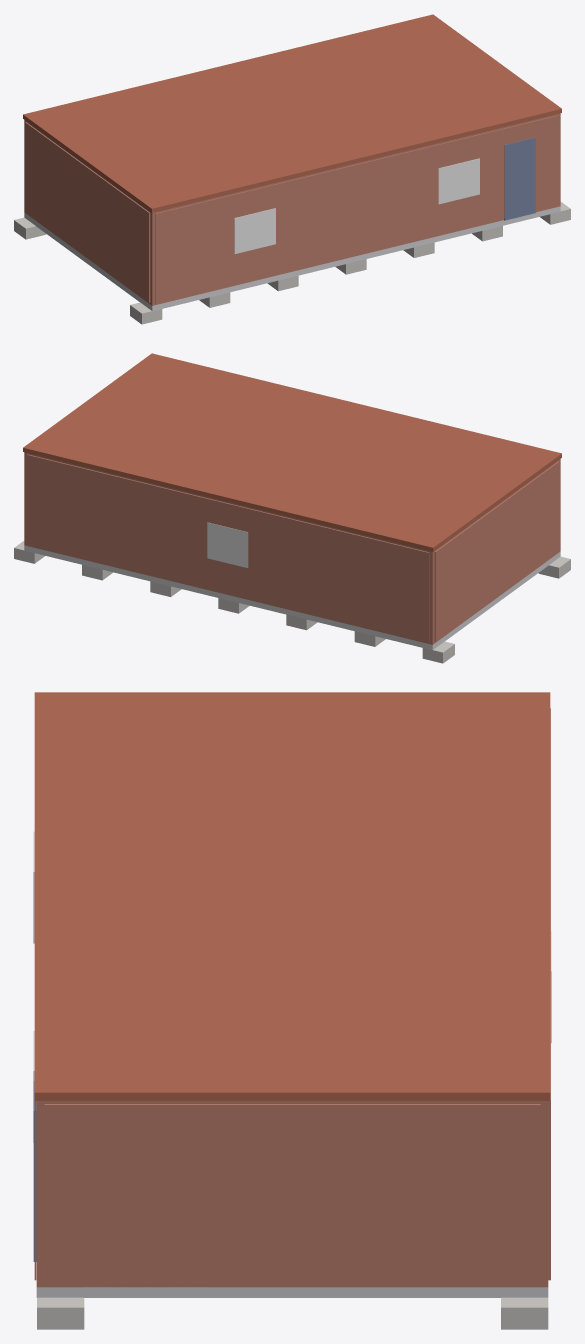
File: Studio-40-Base-OxidisedRed-LOD3.glb
3 views of the same model, one above another, from view 1: azimuth 30°, elevation 25°; view 2: azimuth 150°, elevation 25°; view 3: azimuth 270°, elevation 25° (orthographic). The views are drawn at different scales.
Visible parts, largest first — view 1: RoofMain, ExteriorPanelsStandard, BaseFrame, WindowsStandard, ExteriorShell, FoundationBlocks, EntryDoor; view 2: RoofMain, ExteriorPanelsStandard, BaseFrame, ExteriorShell, FoundationBlocks, WindowsStandard; view 3: RoofMain, ExteriorPanelsStandard, ExteriorShell, BaseFrame, FoundationBlocks.
Boxes of the visible parts, bbox=[...] form: RoofMain: bbox=[23, 14, 561, 212]; ExteriorPanelsStandard: bbox=[25, 115, 557, 303]; BaseFrame: bbox=[24, 206, 560, 311]; WindowsStandard: bbox=[234, 158, 479, 254]; ExteriorShell: bbox=[24, 113, 560, 305]; FoundationBlocks: bbox=[14, 201, 570, 324]; EntryDoor: bbox=[504, 137, 535, 220]; RoofMain: bbox=[23, 353, 561, 551]; ExteriorPanelsStandard: bbox=[27, 454, 559, 642]; BaseFrame: bbox=[24, 545, 560, 650]; ExteriorShell: bbox=[24, 452, 560, 644]; FoundationBlocks: bbox=[14, 541, 570, 663]; WindowsStandard: bbox=[207, 522, 248, 567]; RoofMain: bbox=[34, 692, 550, 1100]; ExteriorPanelsStandard: bbox=[34, 708, 550, 1284]; ExteriorShell: bbox=[36, 1101, 548, 1287]; BaseFrame: bbox=[36, 1287, 548, 1297]; FoundationBlocks: bbox=[37, 1297, 548, 1329].
Bounding box in the file's own units: 12.49 × 3.17 × 6.53.
